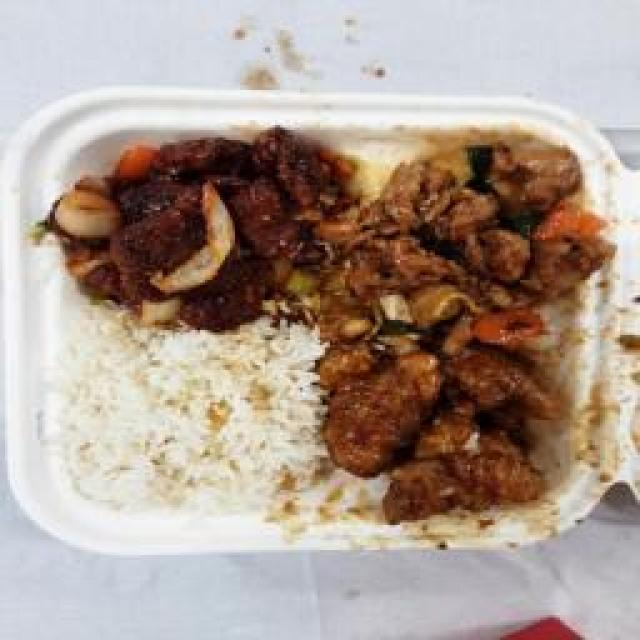Wet Waste: (312, 128, 612, 358), (43, 120, 345, 320), (52, 320, 322, 515), (325, 342, 565, 520)
